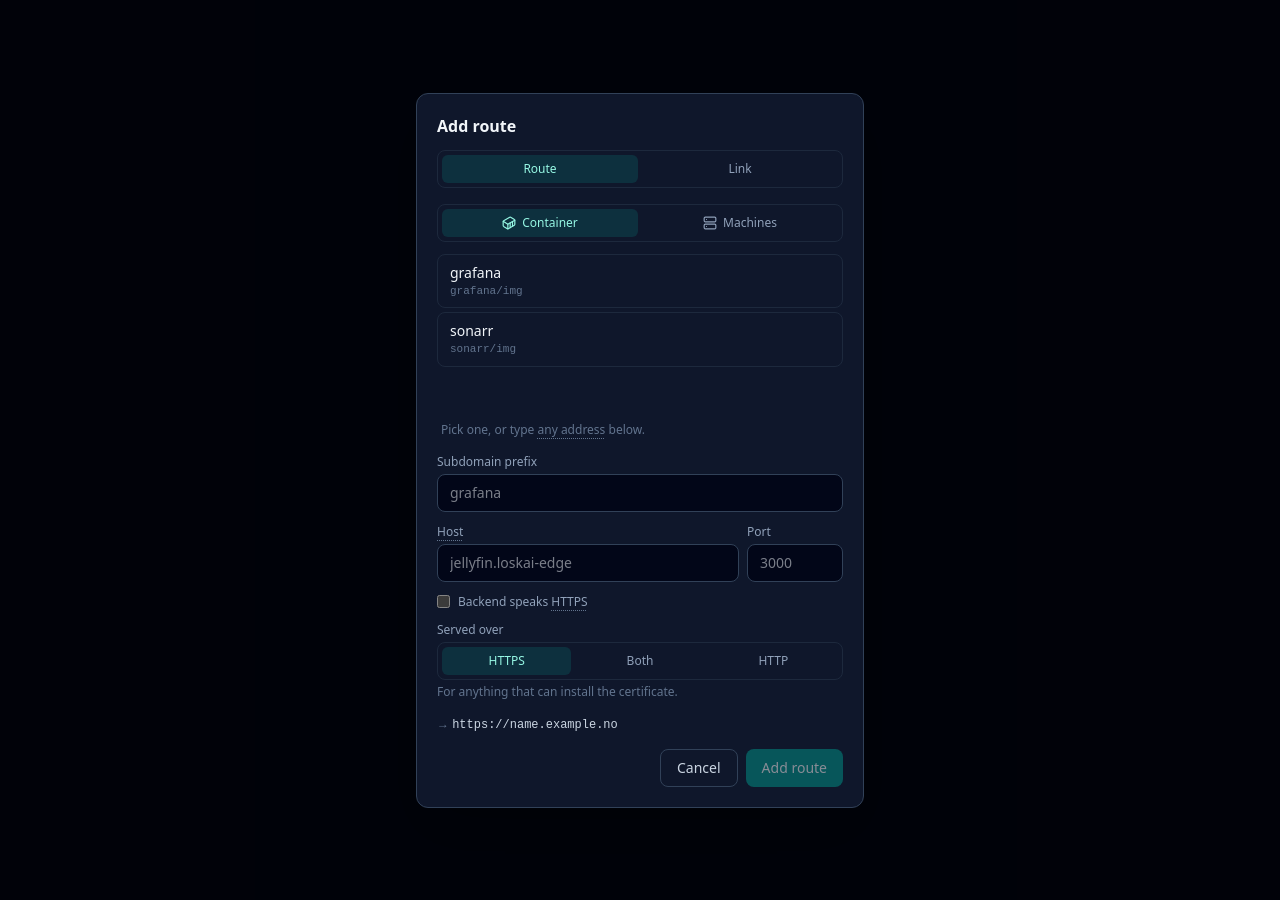
Test: a container on Caddy's network is hinted by name
Click the text "grafana" at (476, 272), box 450,262 -> 501,282
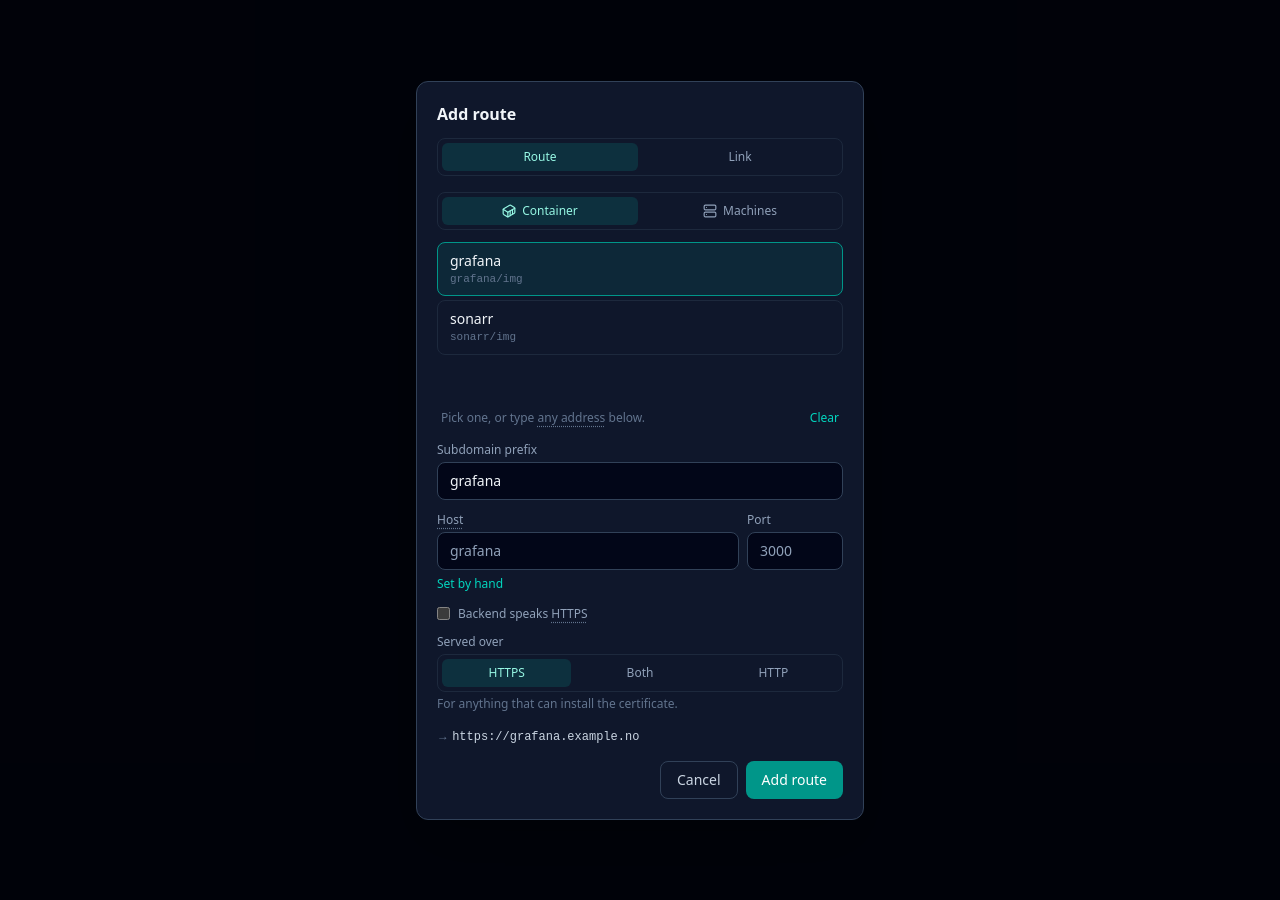
Check: the dropdown named "Host" holds "grafana", box 437,532 -> 739,570
Check: the field labelled "Port" holds "3000", box 747,532 -> 843,570
